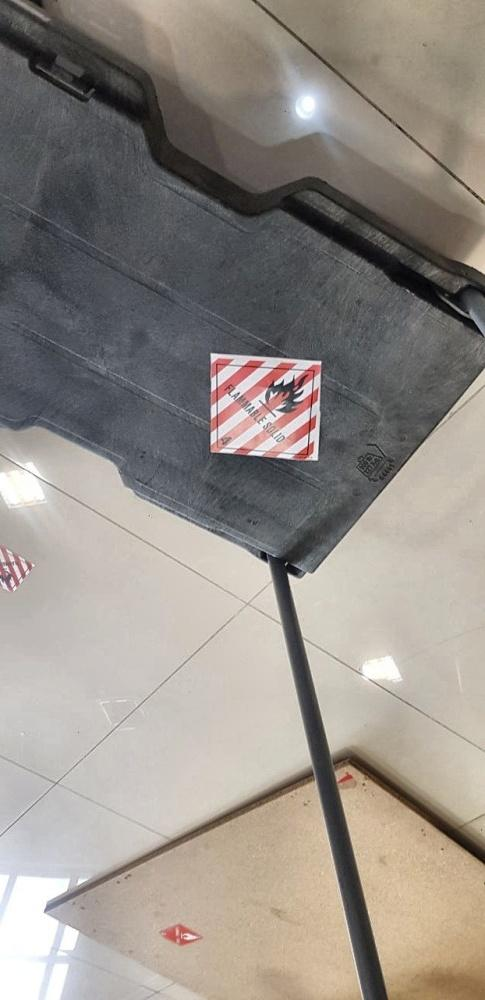flammable-solid: (210, 352, 324, 465)
